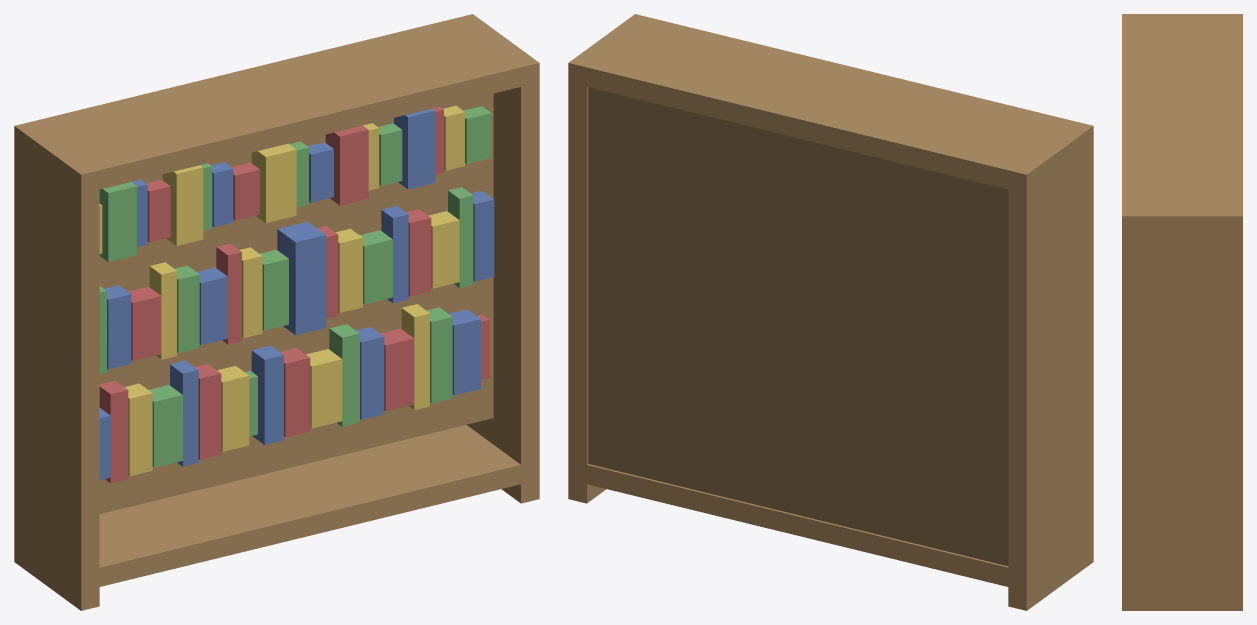
The model's file is bookshelf.glb.
3 views of the same model, side by side, from view 1: azimuth 30°, elevation 25°; view 2: azimuth 150°, elevation 25°; view 3: azimuth 270°, elevation 25° (orthographic). The views are drawn at different scales.
Parts seen in each view (by area): view 1: Cube; view 2: Cube; view 3: Cube.
Boxes of the visible parts, x1,y1,x2,y2 form: Cube: (14, 14, 539, 610); Cube: (568, 14, 1093, 610); Cube: (1122, 14, 1242, 610).
Bounding box in the file's own units: 1.98 × 1.8 × 0.5.
